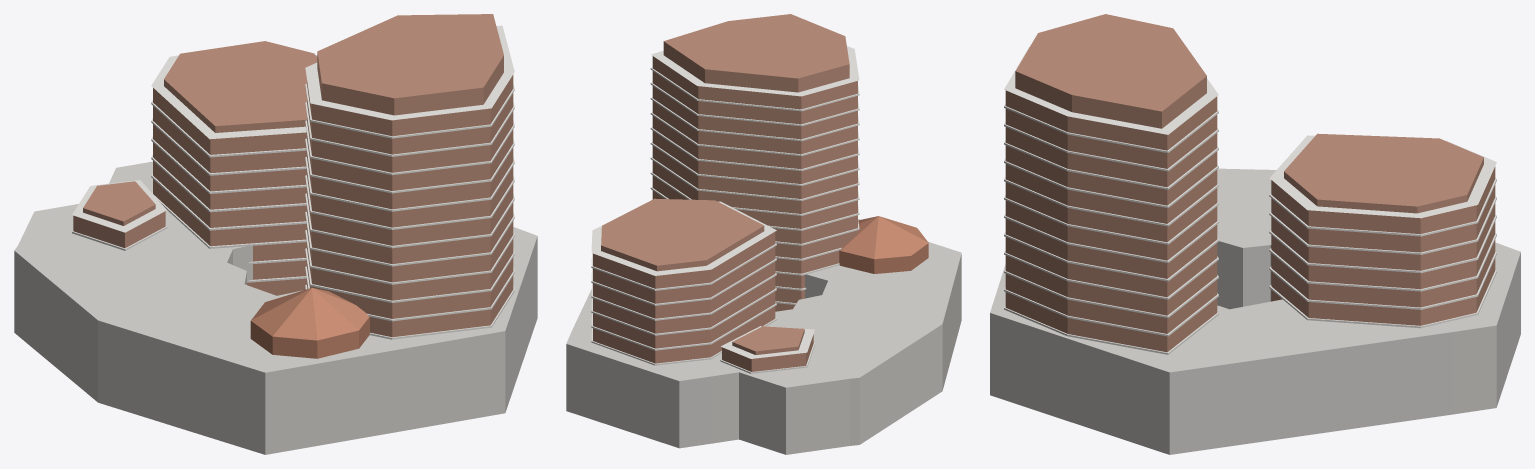
Rendered from centro-civico.glb.
The picture shows the model from 3 angles, left to right: view 1: azimuth 30°, elevation 25°; view 2: azimuth 150°, elevation 25°; view 3: azimuth 270°, elevation 25°; orthographic projection. The views are drawn at different scales.
Visible parts, largest first — view 1: zocalo, torre-sede, torre-rental, domo, cuerpo-norte; view 2: zocalo, torre-sede, torre-rental, domo, cuerpo-norte; view 3: zocalo, torre-sede, torre-rental.
Part boxes in pixels (x1=…): zocalo: x1=14, y1=161, x2=537, y2=454; torre-sede: x1=305, y1=14, x2=514, y2=339; torre-rental: x1=151, y1=41, x2=317, y2=295; domo: x1=250, y1=288, x2=369, y2=358; cuerpo-norte: x1=72, y1=180, x2=167, y2=250; zocalo: x1=566, y1=219, x2=961, y2=454; torre-sede: x1=650, y1=14, x2=859, y2=311; torre-rental: x1=591, y1=198, x2=776, y2=365; domo: x1=839, y1=216, x2=928, y2=273; cuerpo-norte: x1=720, y1=326, x2=814, y2=373; zocalo: x1=990, y1=168, x2=1520, y2=454; torre-sede: x1=1004, y1=14, x2=1218, y2=354; torre-rental: x1=1269, y1=133, x2=1496, y2=328.
Bounding box in the file's own units: 76.31 × 55.8 × 83.99.
